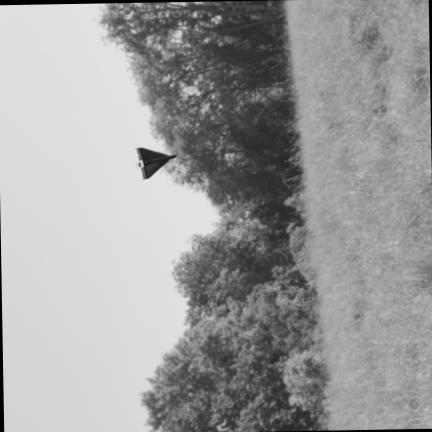Shahed: (136, 146, 175, 177)
